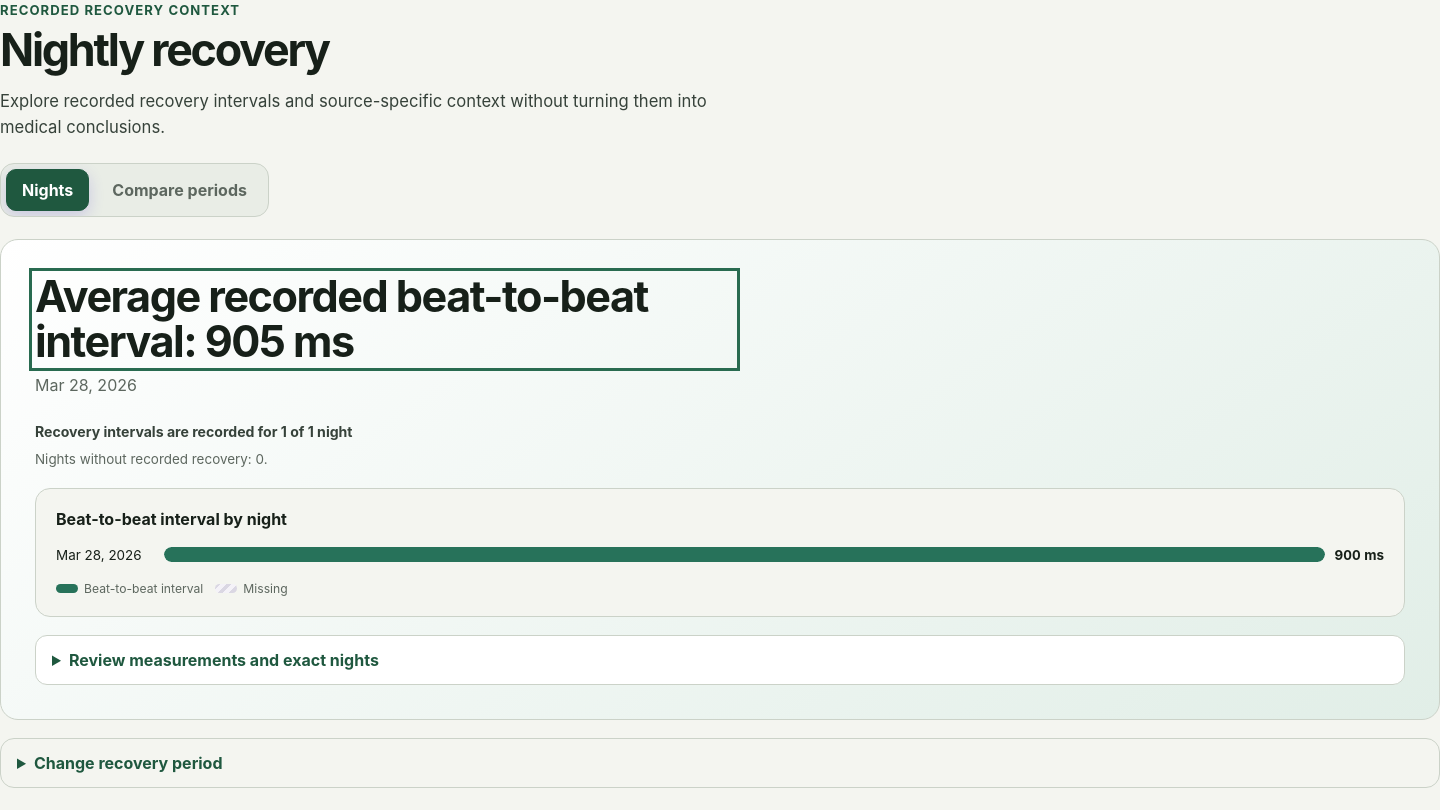
it: RecoveryInsightsPanel › pluralizes one-night recovery coverage in en-US
(page scrolled)
Check: the text "Recovery intervals are recorded for 1 of 1 night" is shown, box [35,423,352,440]
What coordinates should you click on to do the following:
click the heading "Review measurements and exact nights"
I would click on:
 (224, 660)
Its box is [69,650,379,670].
(page scrolled)
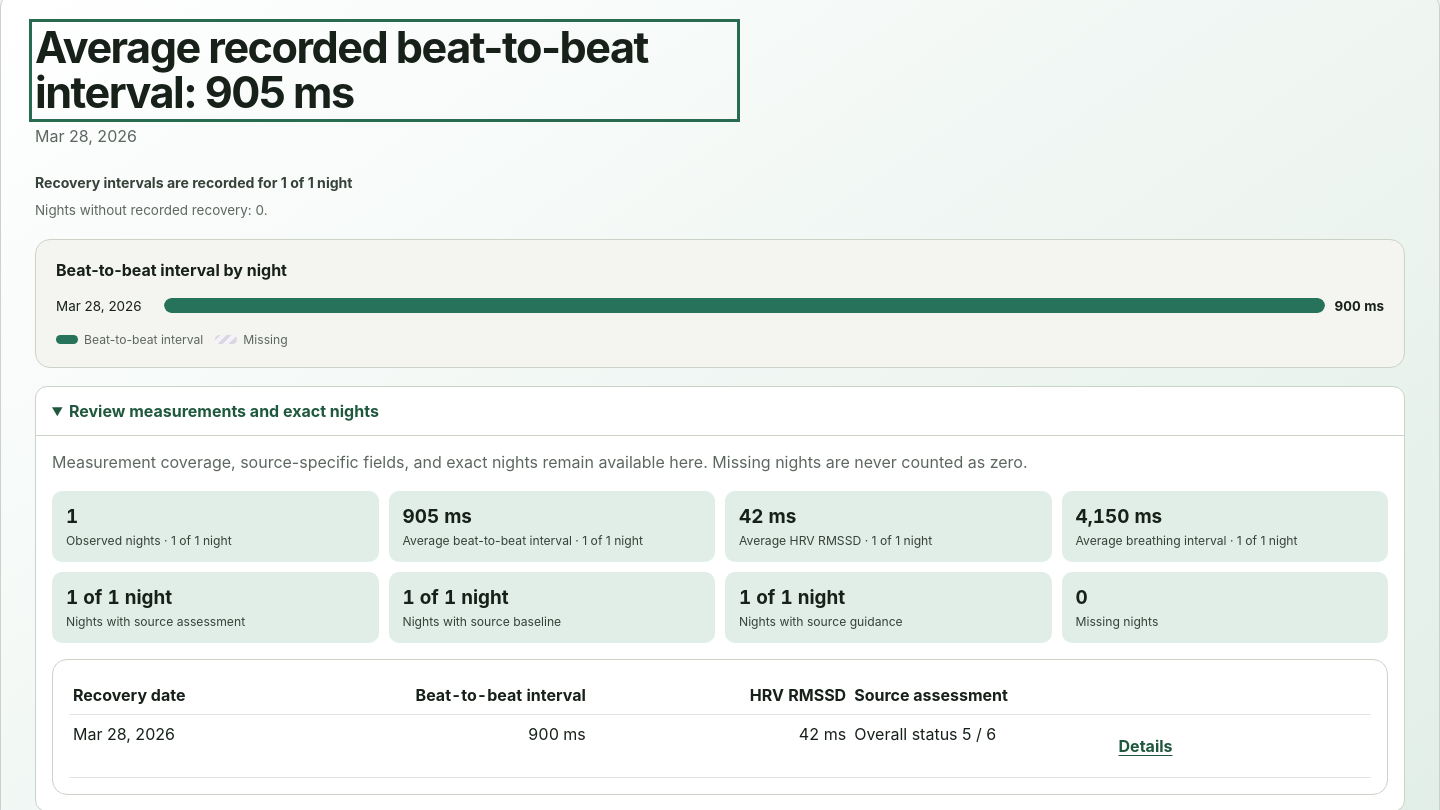
Check: the text "Observed nights · 1 of 1 night" is shown, box [66,533,232,548]
